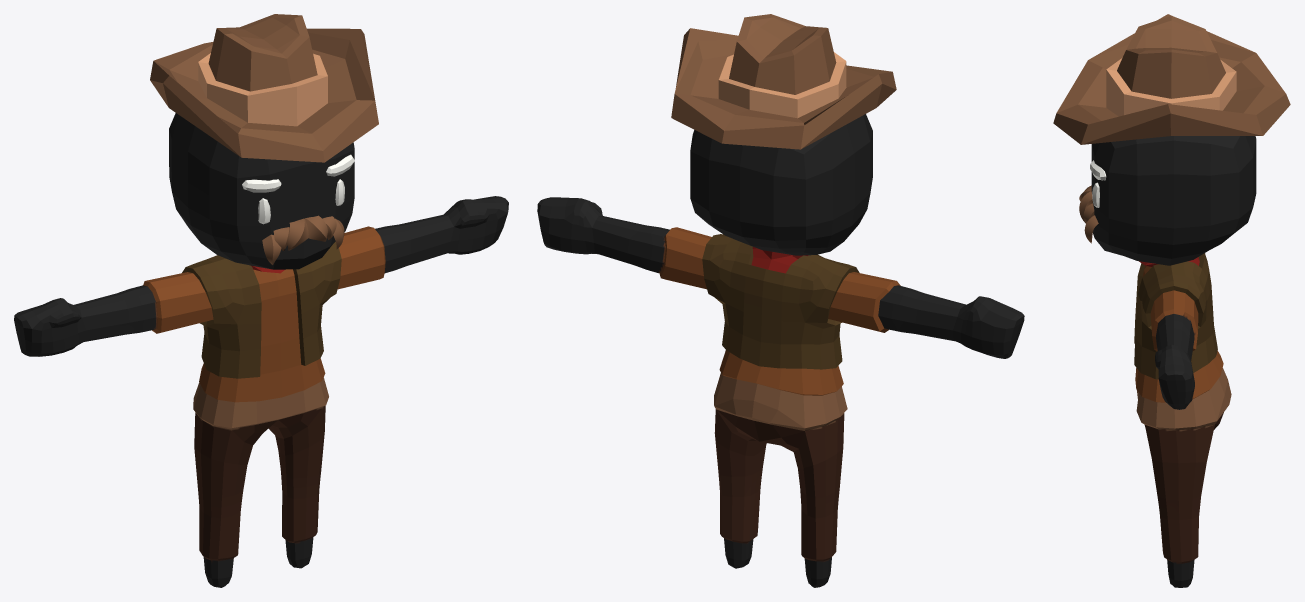
The model's file is Cowboy_Male.fbx.
The picture shows the model from 3 angles, left to right: view 1: azimuth 30°, elevation 25°; view 2: azimuth 150°, elevation 25°; view 3: azimuth 270°, elevation 25°; orthographic projection. The views are drawn at different scales.
Parts seen in each view (by area): view 1: Body; view 2: Body; view 3: Body.
Part boxes in pixels (<box>): Body: <box>14,14,508,587</box>; Body: <box>537,14,1024,587</box>; Body: <box>1053,14,1290,587</box>.
Bounding box in the file's own units: 324 × 352 × 142.
1 material, 1 textured.
